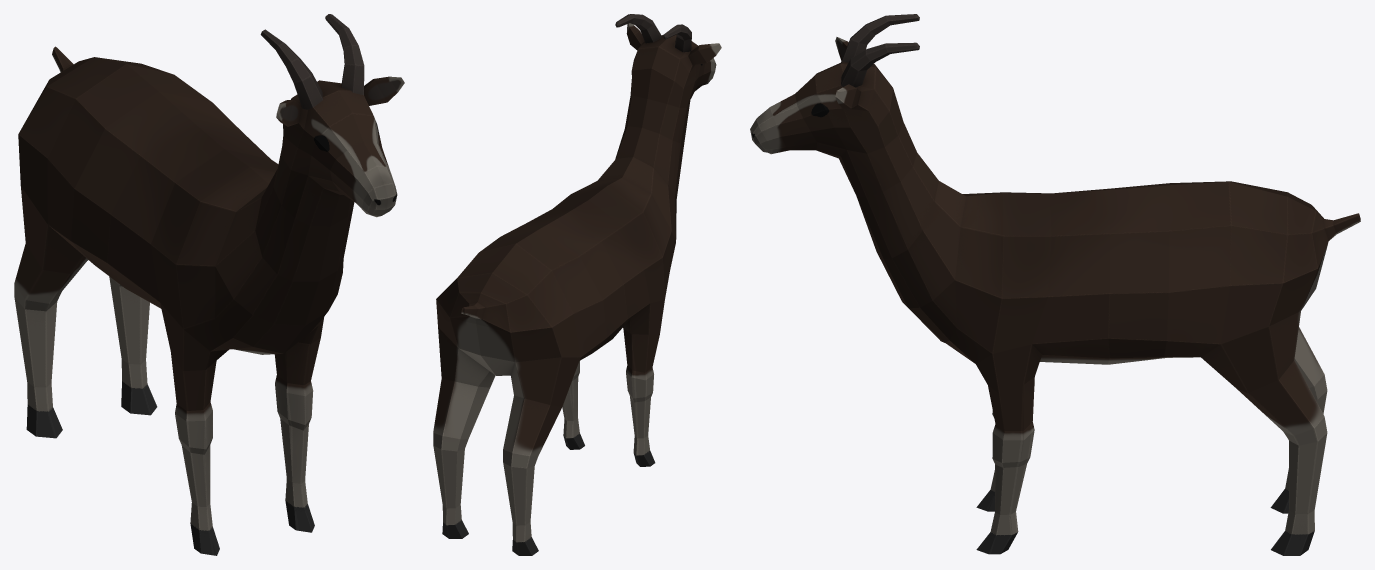
Rendered from goat.glb.
3 views of the same model, side by side, from view 1: azimuth 30°, elevation 25°; view 2: azimuth 150°, elevation 25°; view 3: azimuth 270°, elevation 25° (orthographic). The views are drawn at different scales.
Visible parts, largest first — view 1: node-0; view 2: node-0; view 3: node-0.
Boxes of the visible parts, x1,y1,x2,y2 form: node-0: [14, 14, 404, 555]; node-0: [433, 14, 721, 555]; node-0: [750, 14, 1360, 555].
Size of the model in its own units: 2.26 by 6.6 by 7.31.
Materials: 1 (1 with a texture image).
